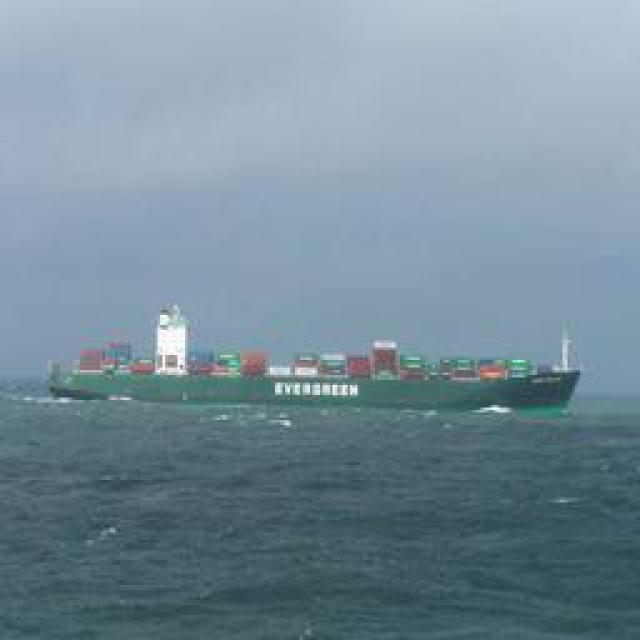Ship: (49, 325, 592, 413)
